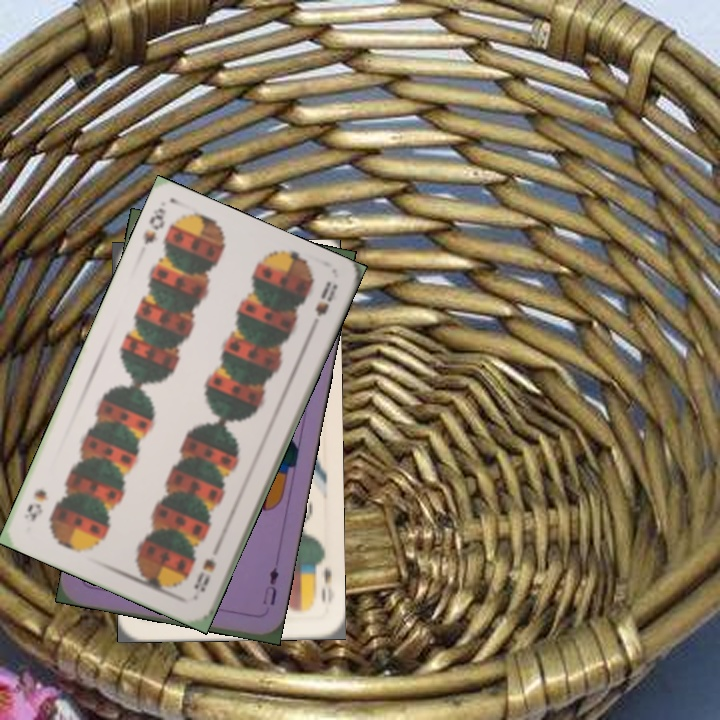EO: (310, 554, 334, 610)
EU: (258, 563, 282, 609)
S8: (139, 204, 169, 248), (189, 553, 219, 595)
